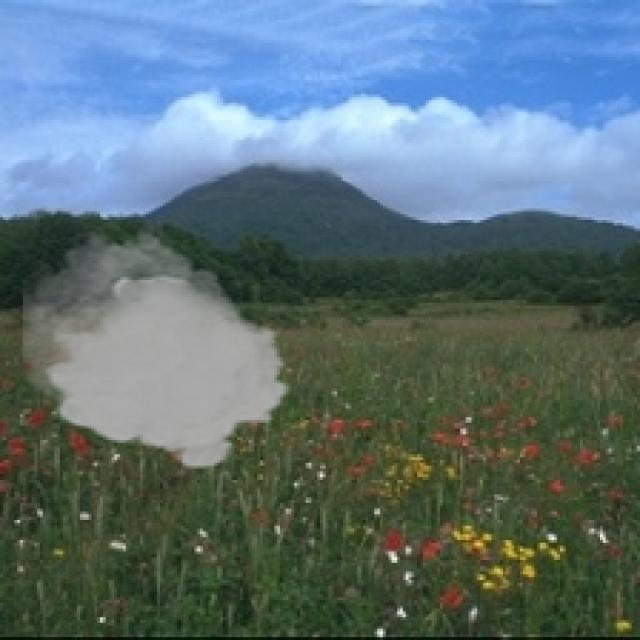smoke: (23, 223, 294, 471)
